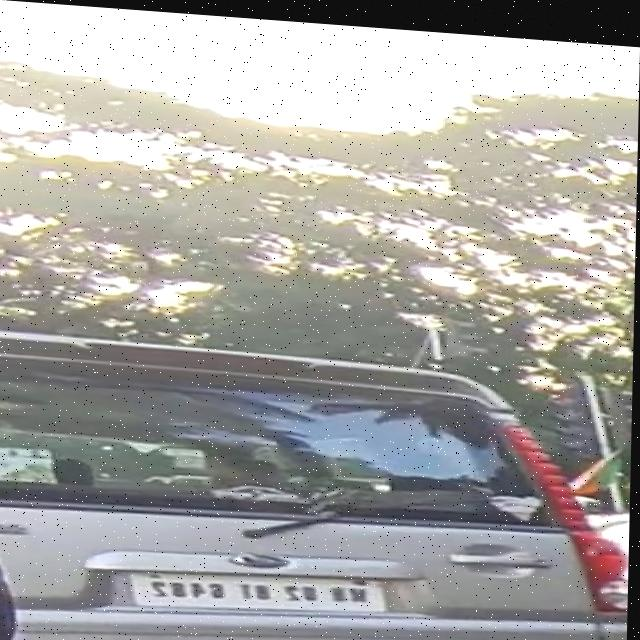plate: (134, 558, 390, 620)
